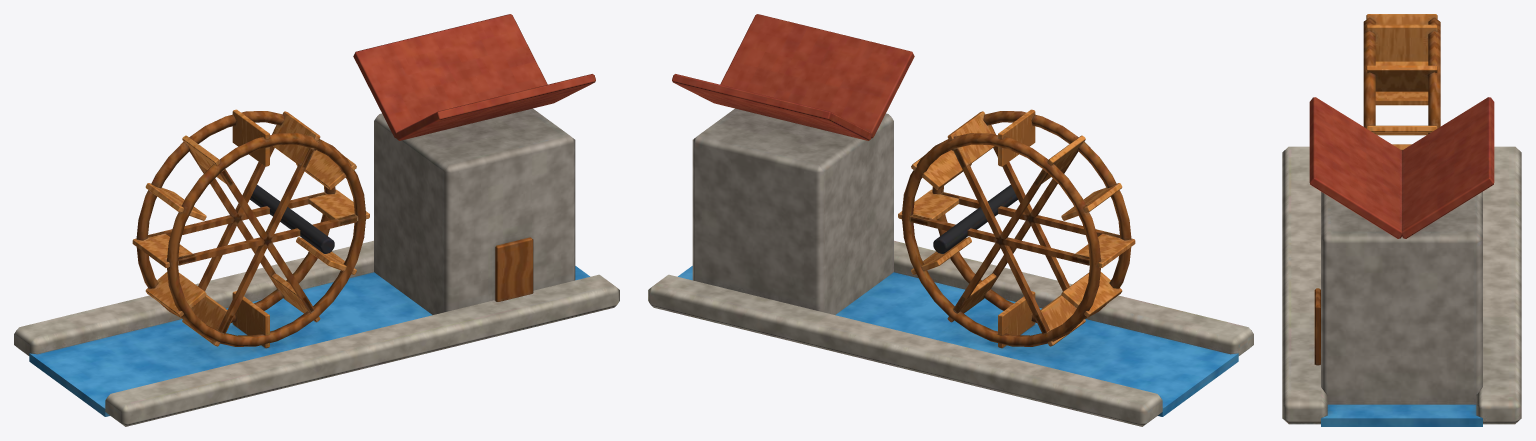
Rendered from water_wheel.glb.
The picture shows the model from 3 angles, left to right: view 1: azimuth 30°, elevation 25°; view 2: azimuth 150°, elevation 25°; view 3: azimuth 270°, elevation 25°; orthographic projection. The views are drawn at different scales.
Visible parts, largest first — view 1: water_wheel, spinZ_wheel; view 2: water_wheel, spinZ_wheel; view 3: water_wheel, spinZ_wheel.
Boxes of the visible parts, x1=… form: water_wheel: x1=14, y1=14, x2=619, y2=426; spinZ_wheel: x1=132, y1=109, x2=369, y2=348; water_wheel: x1=648, y1=14, x2=1253, y2=426; spinZ_wheel: x1=898, y1=109, x2=1135, y2=348; water_wheel: x1=1282, y1=97, x2=1521, y2=426; spinZ_wheel: x1=1363, y1=14, x2=1440, y2=150.
Bounding box in the file's own units: 1.9 × 0.825 × 0.74.
Materials: 1 (1 with a texture image).
